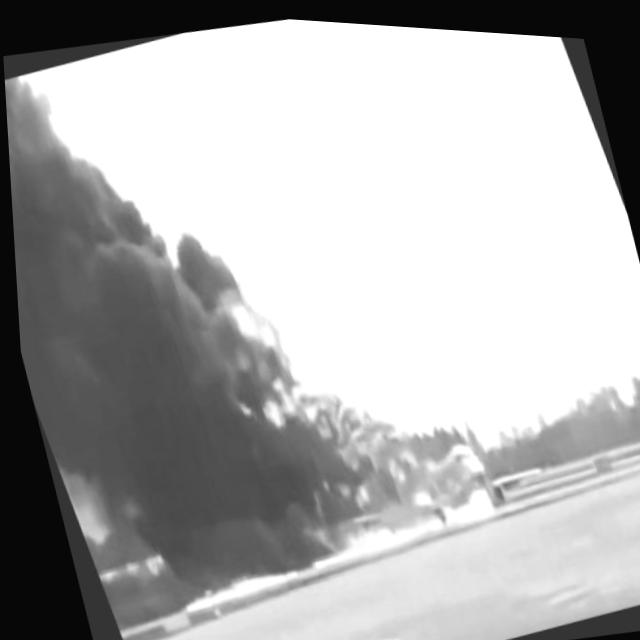aeroplane: (339, 391, 565, 574)
